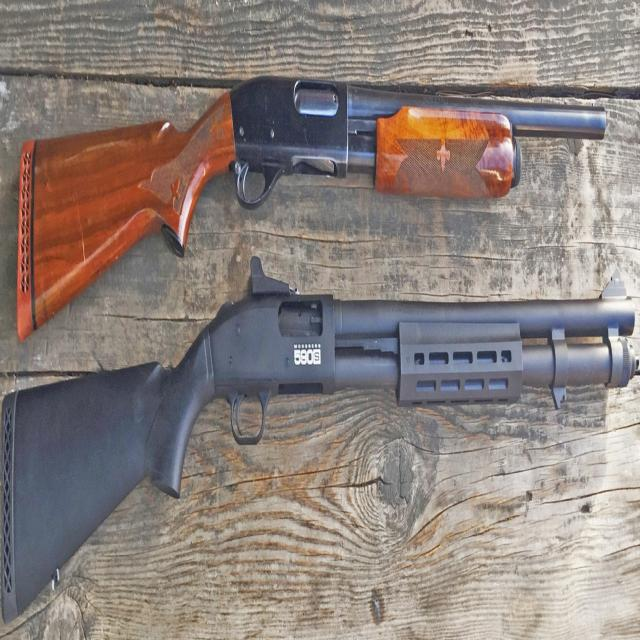Weapon: (0, 256, 640, 621), (17, 76, 606, 339)
